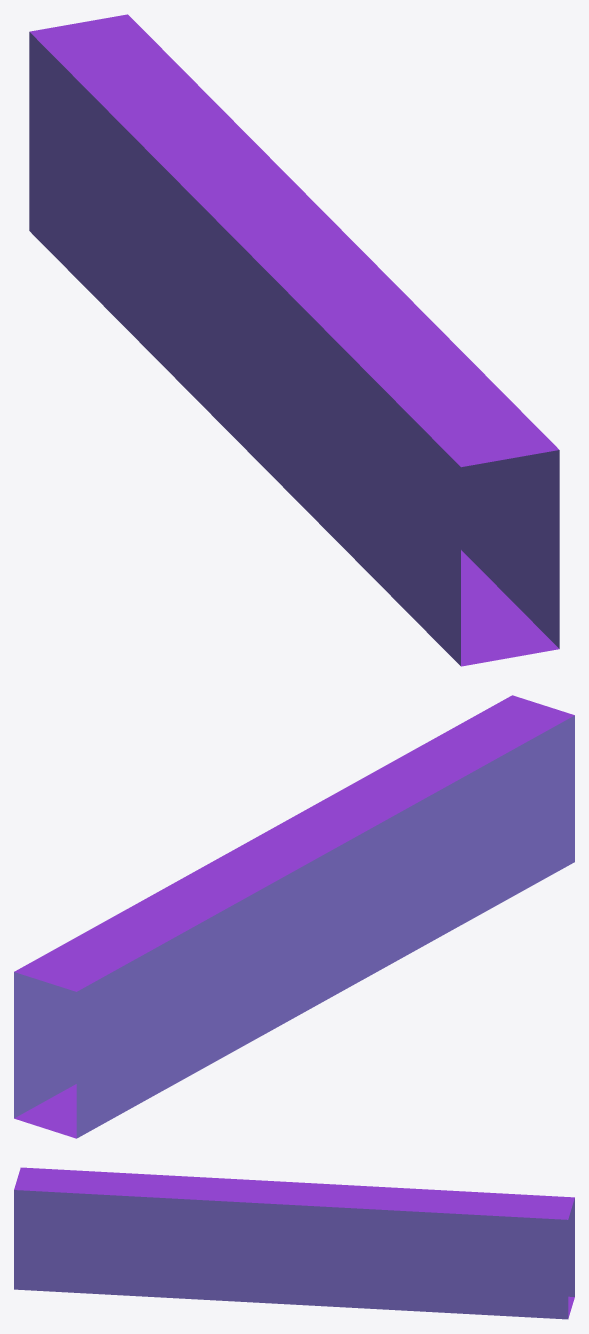
File: LeftHall.glb
The picture shows the model from 3 angles, top to bottom: view 1: azimuth 30°, elevation 25°; view 2: azimuth 150°, elevation 25°; view 3: azimuth 270°, elevation 25°; orthographic projection. The views are drawn at different scales.
Parts seen in each view (by area): view 1: Plane; view 2: Plane; view 3: Plane.
Boxes of the visible parts, x1,y1,x2,y2 form: Plane: (29,14,559,666); Plane: (14,695,574,1138); Plane: (14,1167,574,1319).
Bounding box in the file's own units: 8.78 × 7.8 × 39.78.
